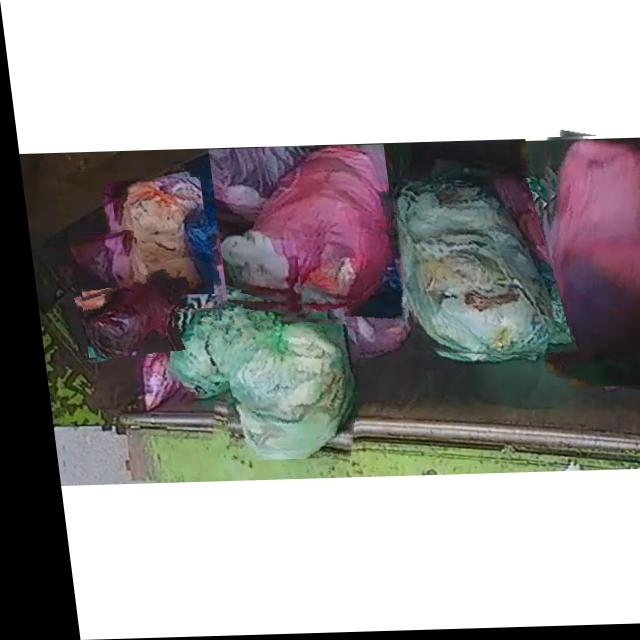general_trashbag: (390, 183, 568, 358), (213, 318, 345, 460), (160, 309, 219, 398)
other_trashbag: (214, 148, 385, 309), (538, 141, 640, 394), (294, 233, 398, 360), (113, 176, 192, 291), (75, 276, 172, 359), (65, 231, 125, 284)
